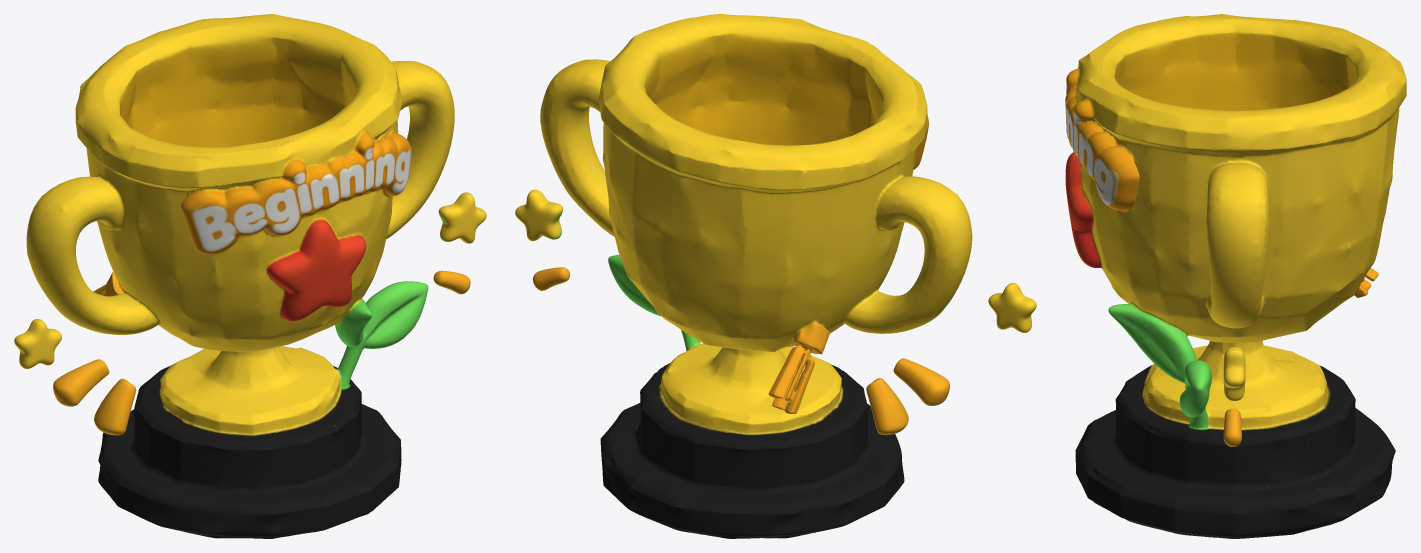
The model's file is beginning_trophy.glb.
3 renders of one model, left to right at view 1: azimuth 30°, elevation 25°; view 2: azimuth 150°, elevation 25°; view 3: azimuth 270°, elevation 25°, orthographic. The views are drawn at different scales.
Size of the model in its own units: 1.9 by 1.51 by 1.11.
Materials: 1 (1 with a texture image).
